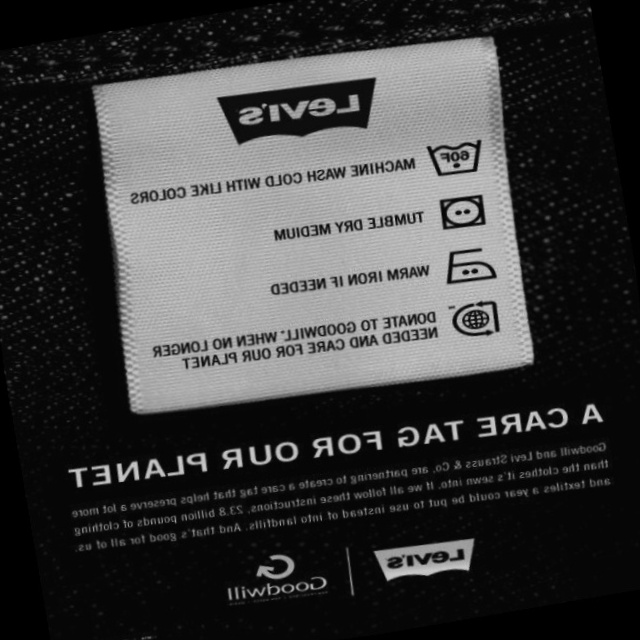30C: (420, 128, 489, 185)
iron_medium: (436, 238, 502, 293)
tumble_dry_medium: (432, 189, 494, 238)
